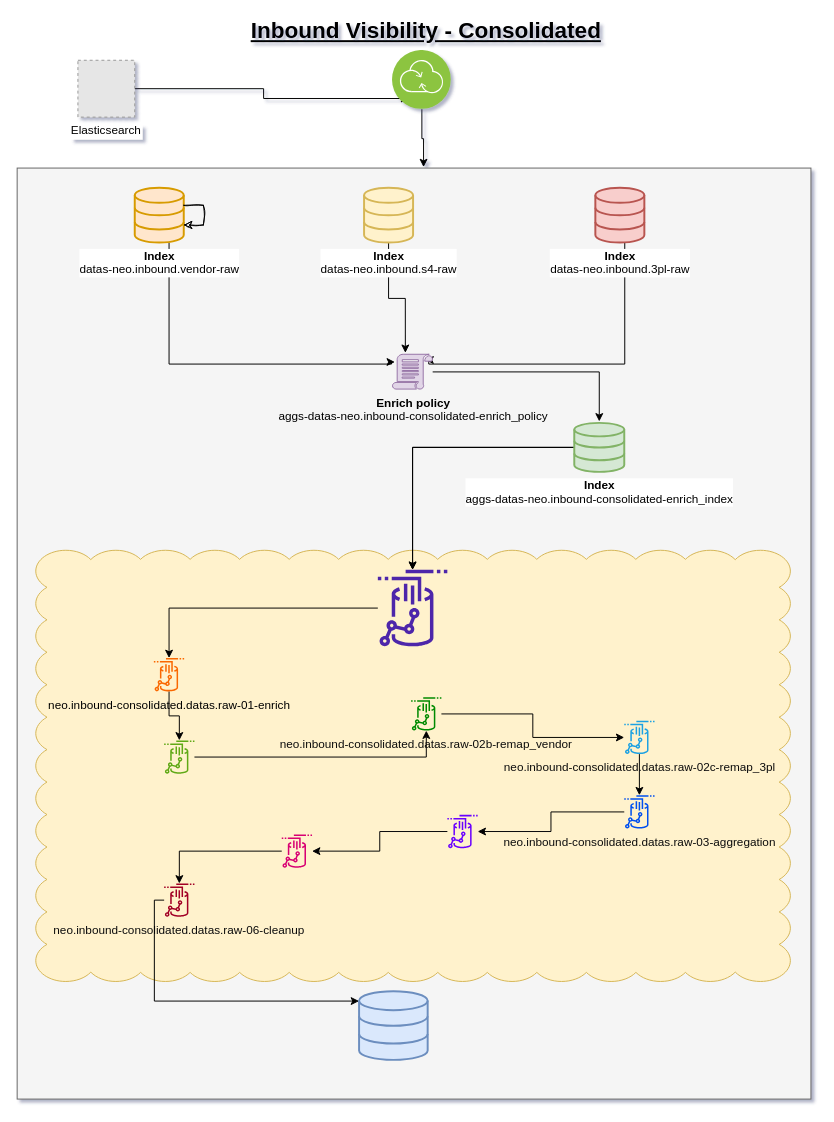
This 834x1122 diagram has some shape labels left out. Grey dashed boxes stand in for pictures. Each missing label, with the centre of its shape:
Index aggs-datas-neo.inbound-consolidated: the point at 393,1025
Ingest pipeline neo.inbound-consolidated.datas.raw: the point at 412,607
neo.inbound-consolidated.datas.raw-02a-remap_s4: the point at 178,756
neo.inbound-consolidated.datas.raw-04-compute.fields: the point at 462,831
neo.inbound-consolidated.datas.raw-05-normaize: the point at 296,850
Trasnform aggs-datas-neo.inbound-consolidated-transform: the point at 421,79
